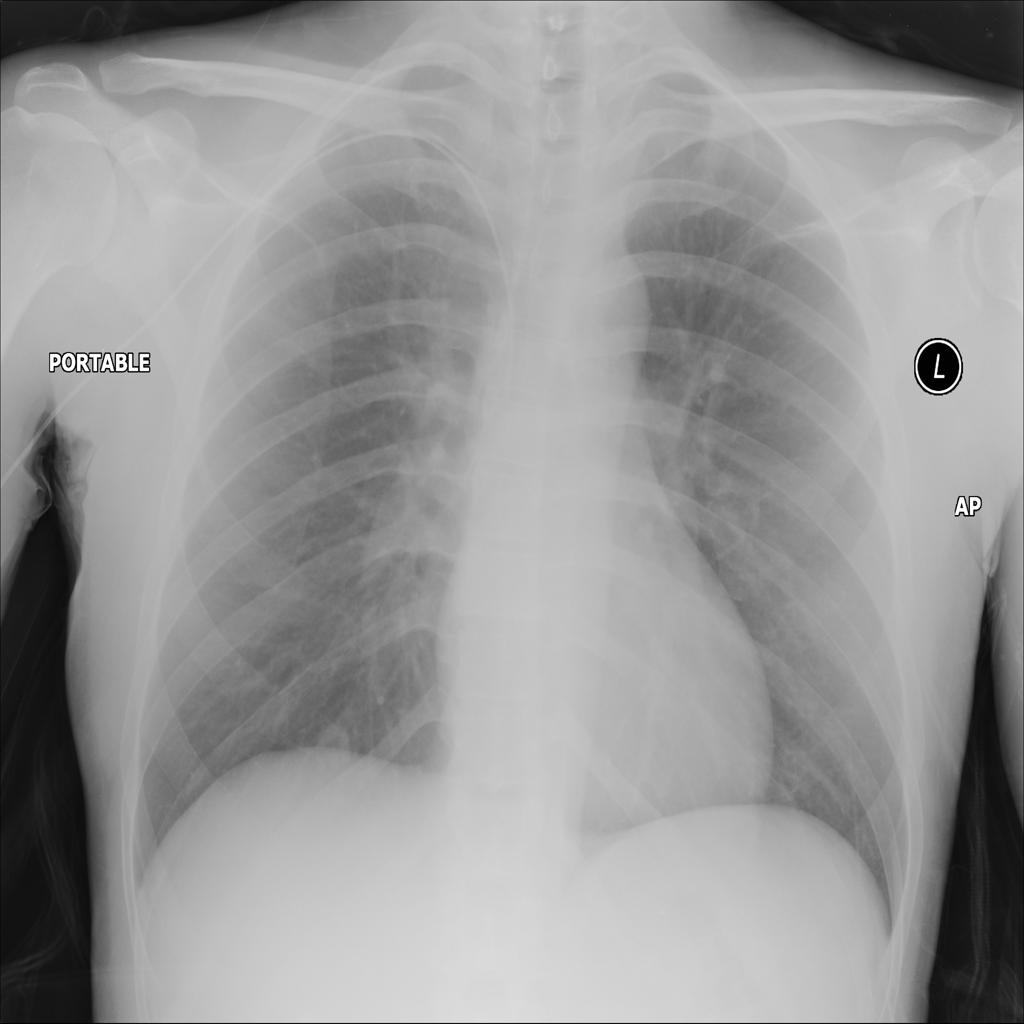nodule: (299, 701, 368, 779)
